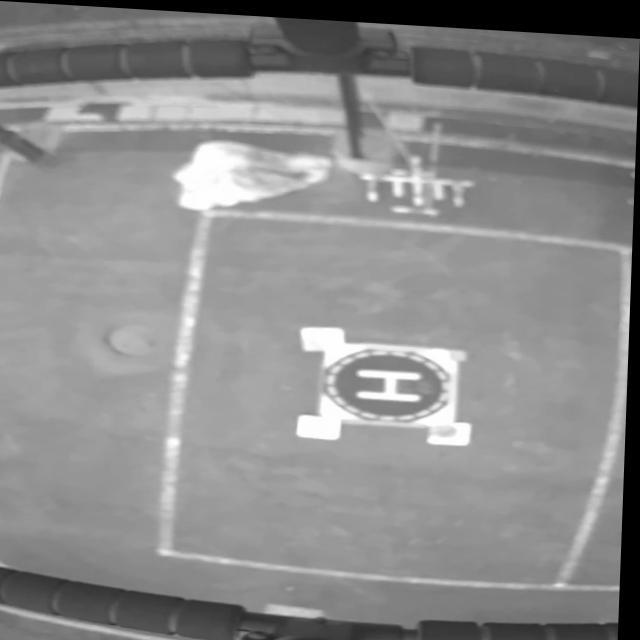Helipad: (359, 363, 424, 397)
